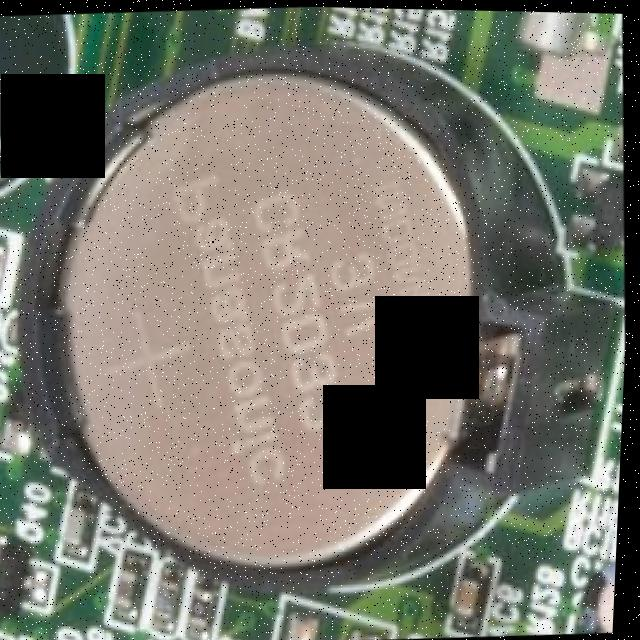battery: (2, 24, 639, 629)
capacitor 1V5: (115, 559, 149, 616), (64, 498, 93, 558), (454, 576, 491, 622)
resistor IR1: (157, 567, 192, 634), (188, 584, 223, 639)
